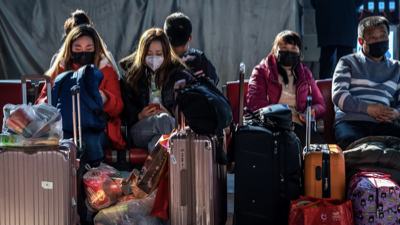with_mask: (363, 28, 389, 57), (276, 42, 300, 67), (71, 42, 96, 64), (145, 48, 164, 70)
